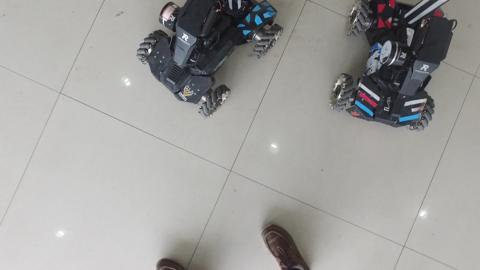chariot: (324, 1, 463, 139), (138, 1, 285, 131)
